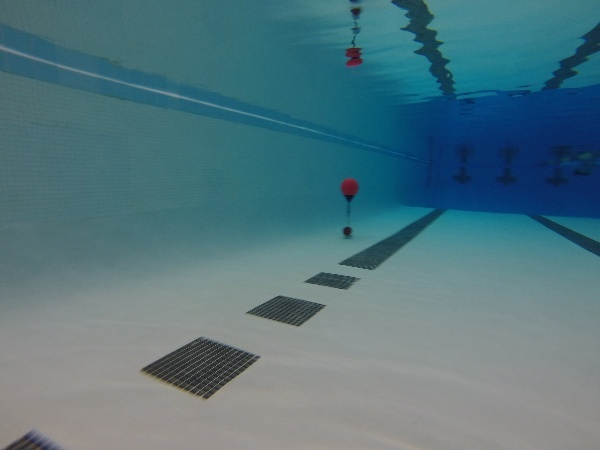buoy_red: (339, 177, 360, 203)
